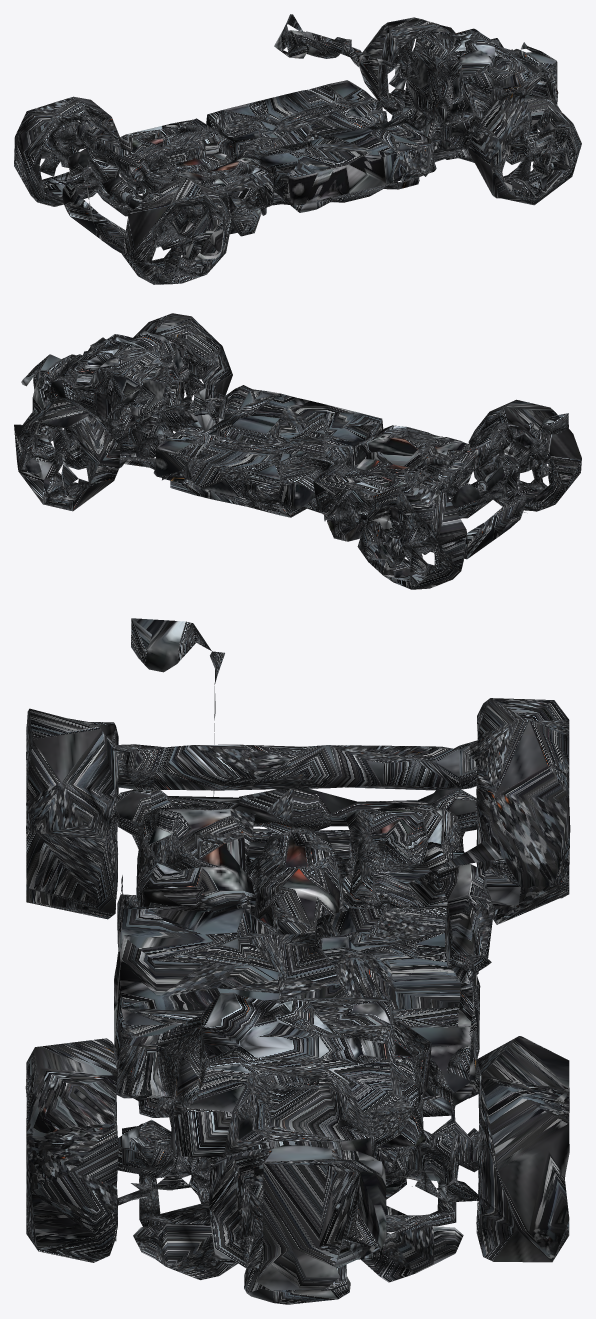
File: sasis-mesin-far.glb
3 renders of one model, top to bottom at view 1: azimuth 30°, elevation 25°; view 2: azimuth 150°, elevation 25°; view 3: azimuth 270°, elevation 25°, orthographic. The views are drawn at different scales.
Bounding box in the file's own units: 1.87 × 0.5214 × 0.904.
1 material, 1 textured.
